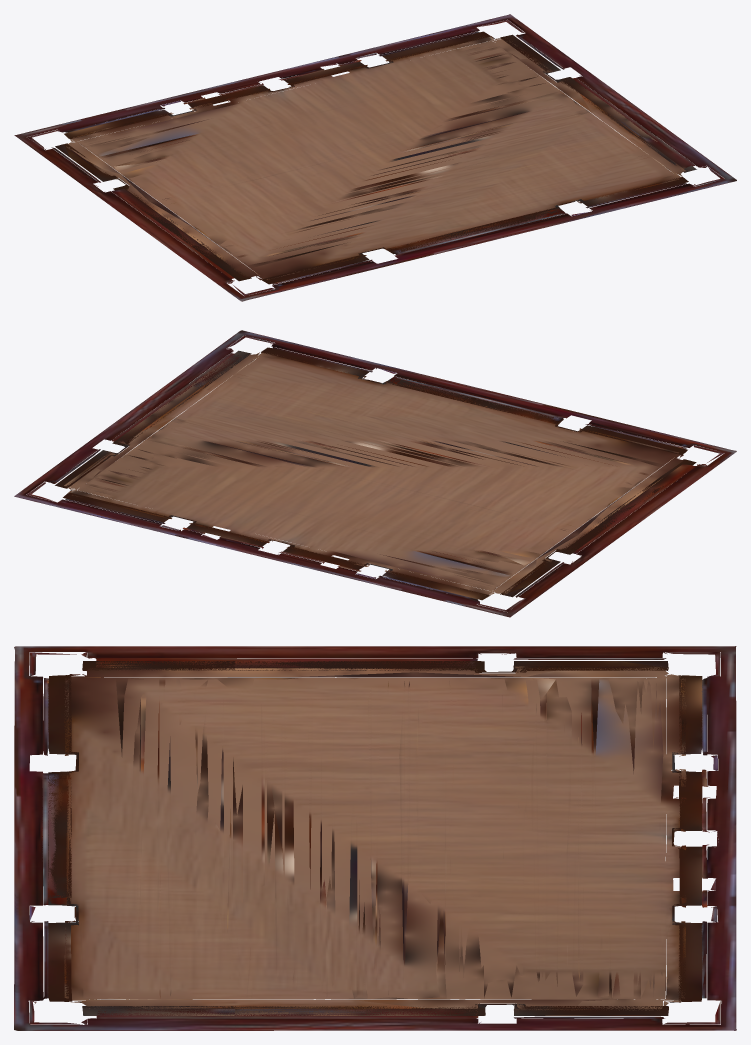
The model's file is CorrectedRoom_Floor.fbx.
The picture shows the model from 3 angles, top to bottom: view 1: azimuth 30°, elevation 25°; view 2: azimuth 150°, elevation 25°; view 3: azimuth 270°, elevation 25°; orthographic projection. The views are drawn at different scales.
Visible parts, largest first — view 1: CorrectedRoom_Floor; view 2: CorrectedRoom_Floor; view 3: CorrectedRoom_Floor.
Boxes of the visible parts, box(x1,y1,x2,y2) form: CorrectedRoom_Floor: box(14, 14, 736, 301); CorrectedRoom_Floor: box(14, 330, 736, 617); CorrectedRoom_Floor: box(14, 646, 736, 1030).
Bounding box in the file's own units: 7.15 × 9.25e-07 × 5.68.
1 material, 1 textured.
